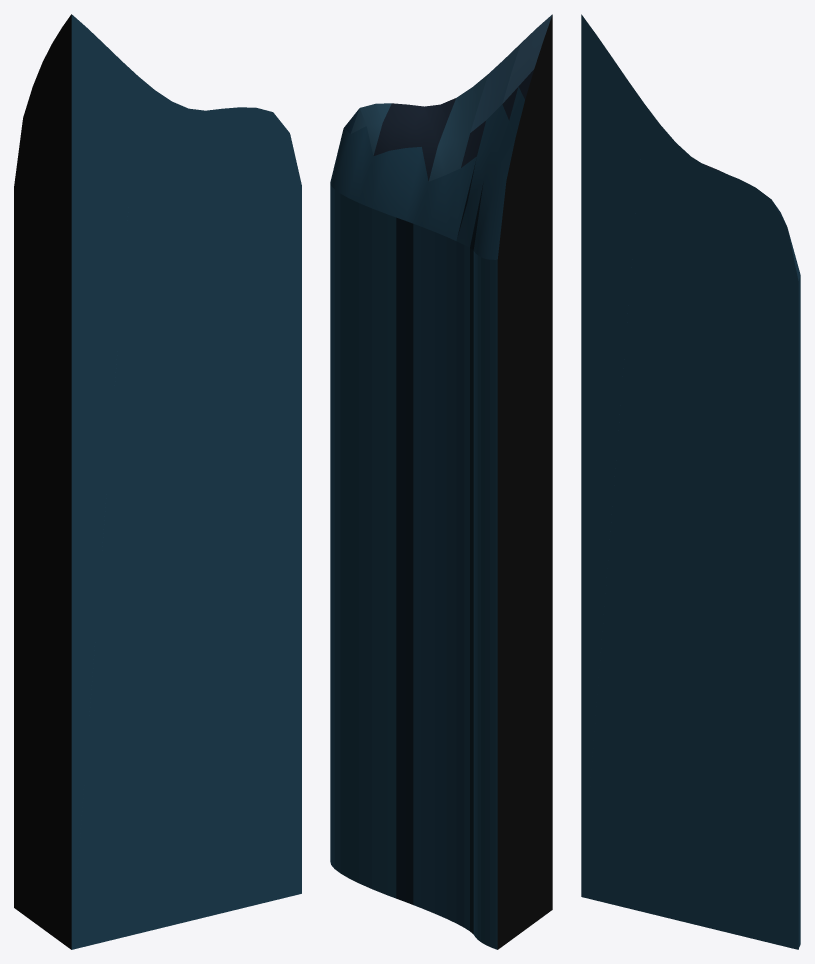
The model's file is fleet_walker_15.glb.
3 renders of one model, left to right at view 1: azimuth 30°, elevation 25°; view 2: azimuth 150°, elevation 25°; view 3: azimuth 330°, elevation 25°, orthographic. The views are drawn at different scales.
Visible parts, largest first — view 1: fleet_walker_15_whull; view 2: fleet_walker_15_whull; view 3: fleet_walker_15_whull.
Boxes of the visible parts, x1,y1,x2,y2 form: fleet_walker_15_whull: (14, 14, 301, 949); fleet_walker_15_whull: (330, 14, 552, 949); fleet_walker_15_whull: (581, 14, 800, 949).
Size of the model in its own units: 6.84 by 26.55 by 2.95.
